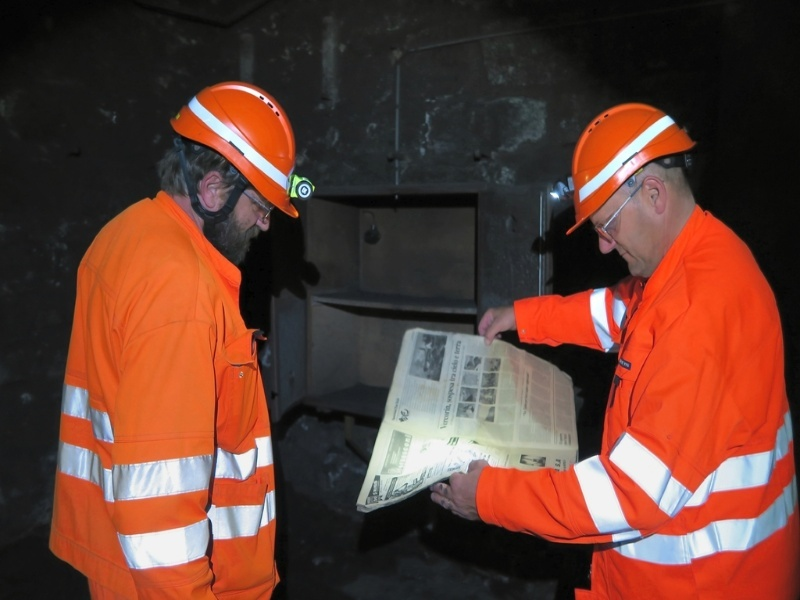Baret: (167, 80, 307, 220), (569, 102, 699, 239)
